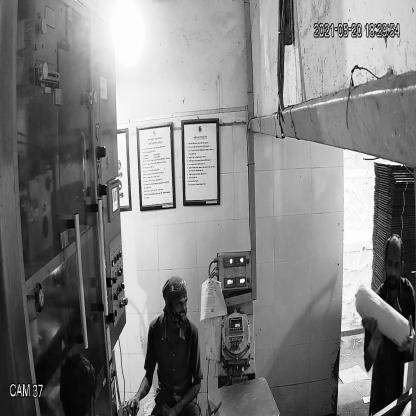no_goggles: (168, 296, 191, 315)
